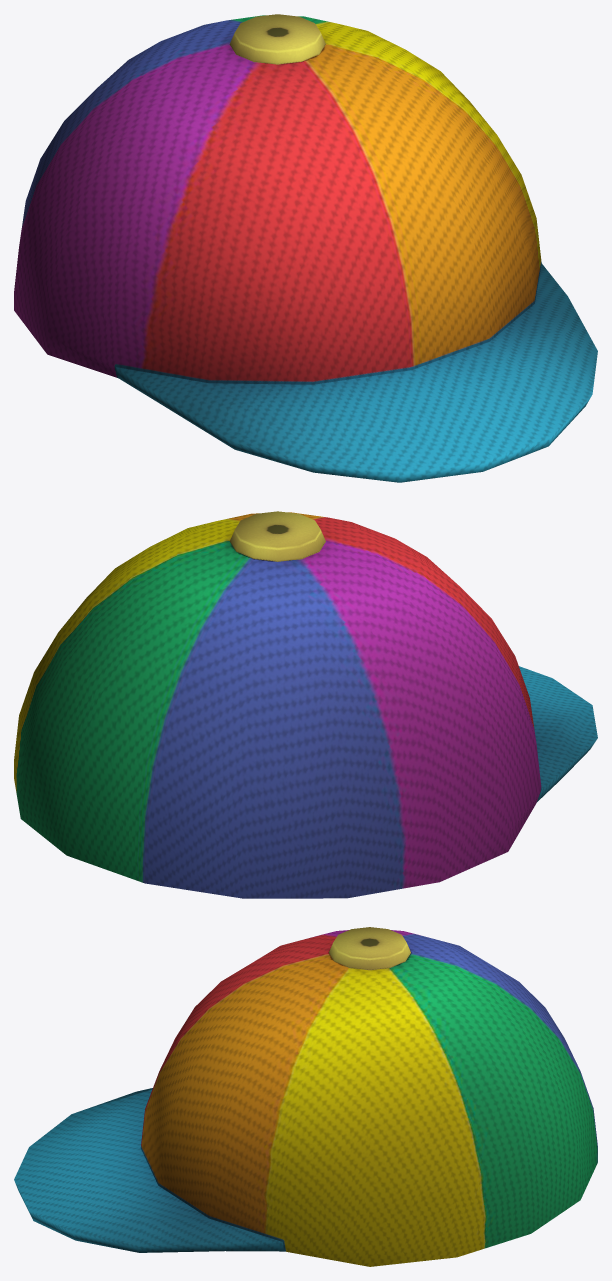
Rendered from Cap_turbo.fbx.
3 views of the same model, one above another, from view 1: azimuth 30°, elevation 25°; view 2: azimuth 150°, elevation 25°; view 3: azimuth 270°, elevation 25° (orthographic). The views are drawn at different scales.
Parts seen in each view (by area): view 1: Cap_turbo; view 2: Cap_turbo; view 3: Cap_turbo.
Boxes of the visible parts, x1=… form: Cap_turbo: x1=14, y1=14, x2=597, y2=482; Cap_turbo: x1=14, y1=511, x2=597, y2=898; Cap_turbo: x1=14, y1=927, x2=597, y2=1266.
Bounding box in the file's own units: 12.01 × 7.2 × 15.38.
